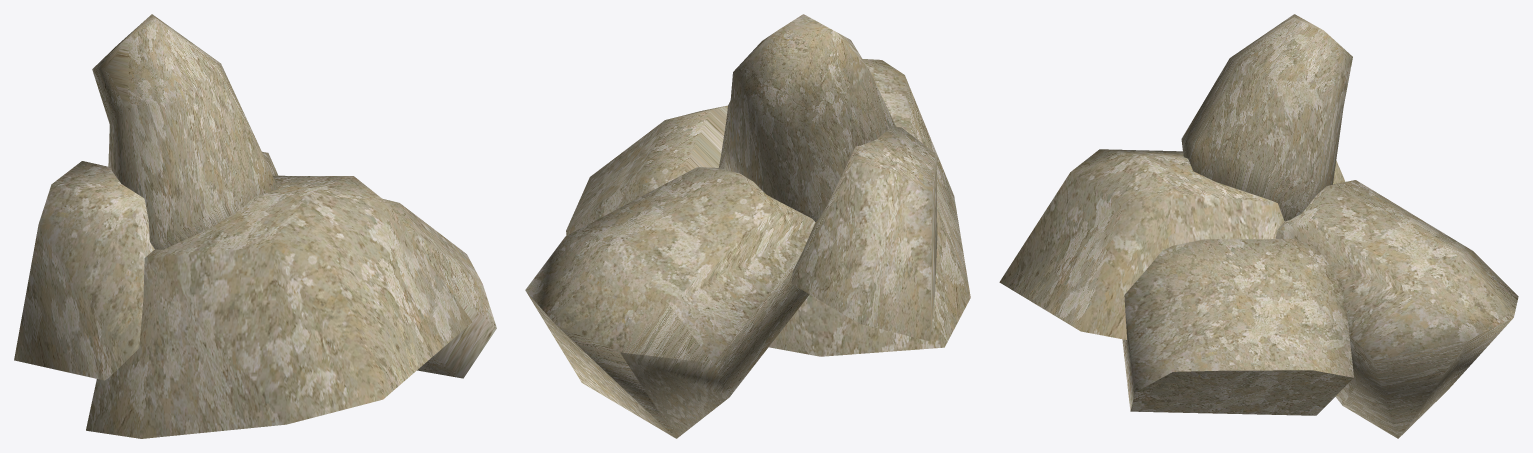
File: rock_formation_l2.fbx
The picture shows the model from 3 angles, left to right: view 1: azimuth 30°, elevation 25°; view 2: azimuth 150°, elevation 25°; view 3: azimuth 270°, elevation 25°; orthographic projection. The views are drawn at different scales.
Parts seen in each view (by area): view 1: mesh_node; view 2: mesh_node; view 3: mesh_node.
Boxes of the visible parts, x1=… form: mesh_node: x1=14, y1=14, x2=496, y2=438; mesh_node: x1=525, y1=14, x2=970, y2=438; mesh_node: x1=999, y1=14, x2=1518, y2=438.
Bounding box in the file's own units: 9.24 × 8.63 × 11.59.
